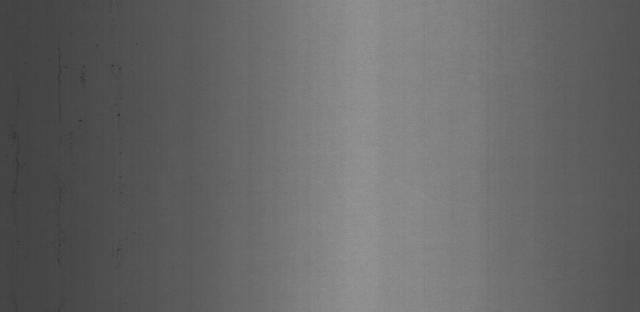inclusion: (111, 54, 130, 148), (74, 58, 90, 136)
water_spot: (48, 42, 67, 123)
